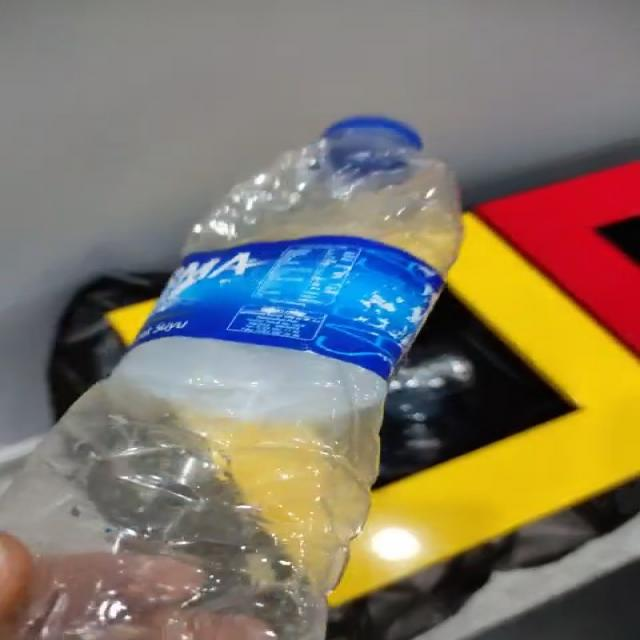plastic: (3, 116, 463, 640)
